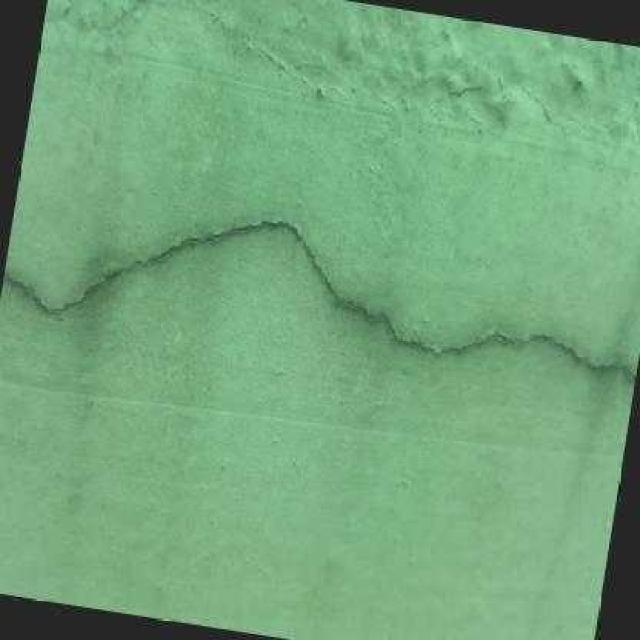D00: (2, 219, 636, 383)
